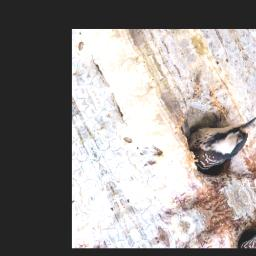Woodpecker: (182, 101, 256, 176)
